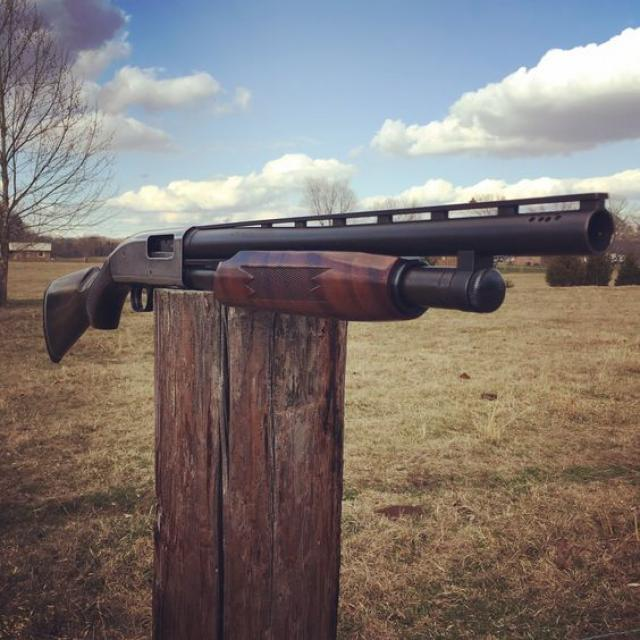shotgun: (30, 179, 622, 381)
